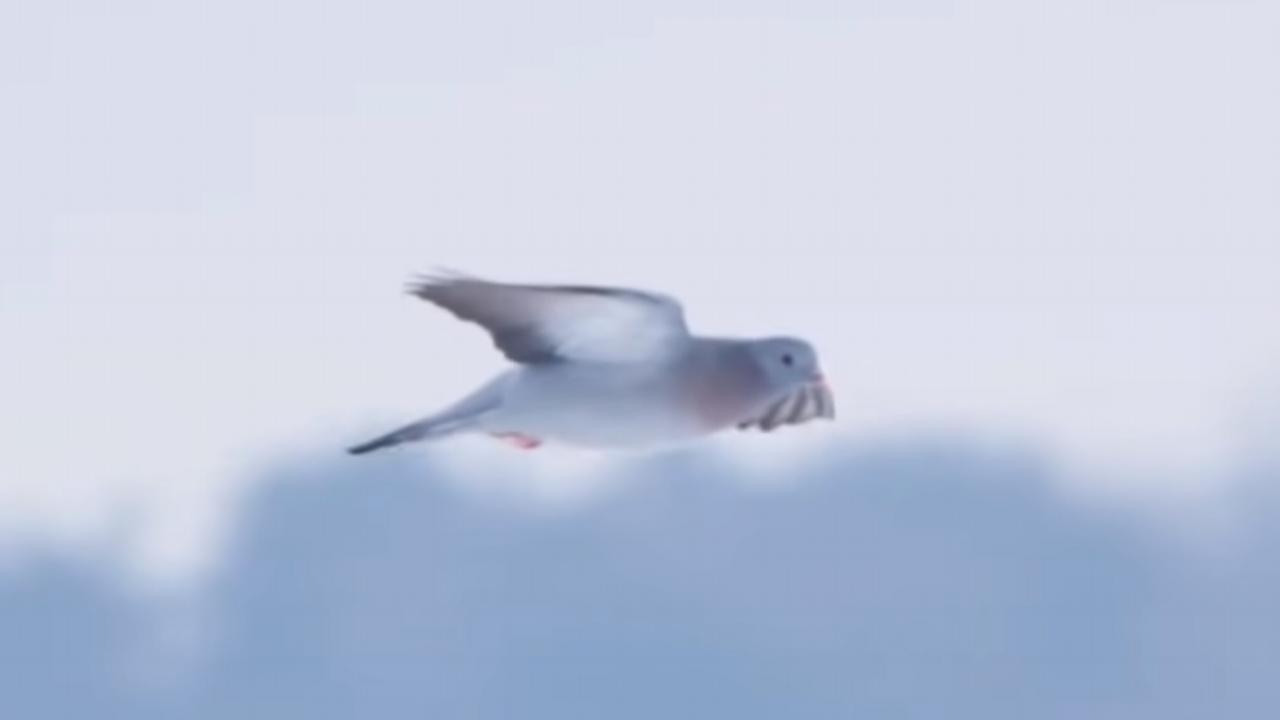Bird: (339, 253, 852, 471)
